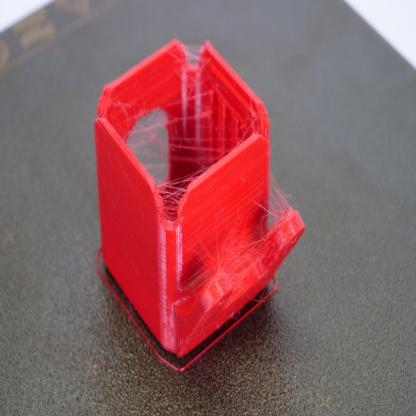fail: (160, 181, 183, 216)
